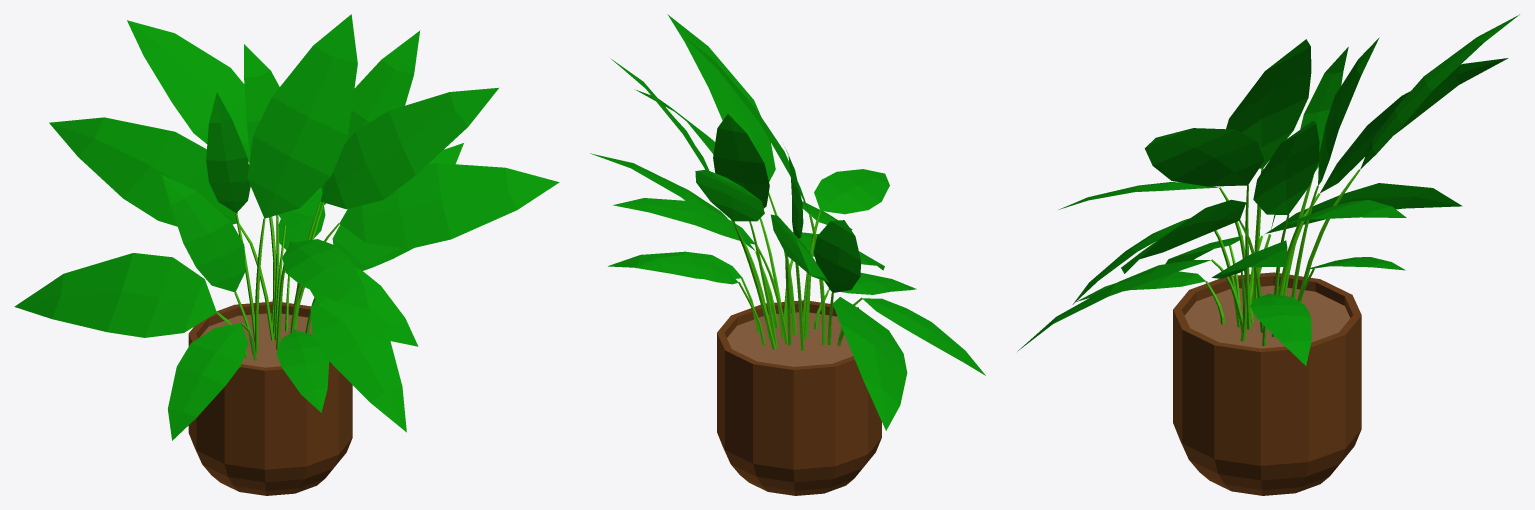
The model's file is chaucay.fbx.
The picture shows the model from 3 angles, left to right: view 1: azimuth 30°, elevation 25°; view 2: azimuth 150°, elevation 25°; view 3: azimuth 270°, elevation 25°; orthographic projection. The views are drawn at different scales.
Visible parts, largest first — view 1: chaucay; view 2: chaucay; view 3: chaucay.
Boxes of the visible parts, box(x1,y1,x2,y2) form: chaucay: box(14, 14, 559, 495); chaucay: box(590, 14, 985, 495); chaucay: box(1017, 14, 1519, 495).
Bounding box in the file's own units: 157 × 159 × 151.
1 material, 1 textured.
